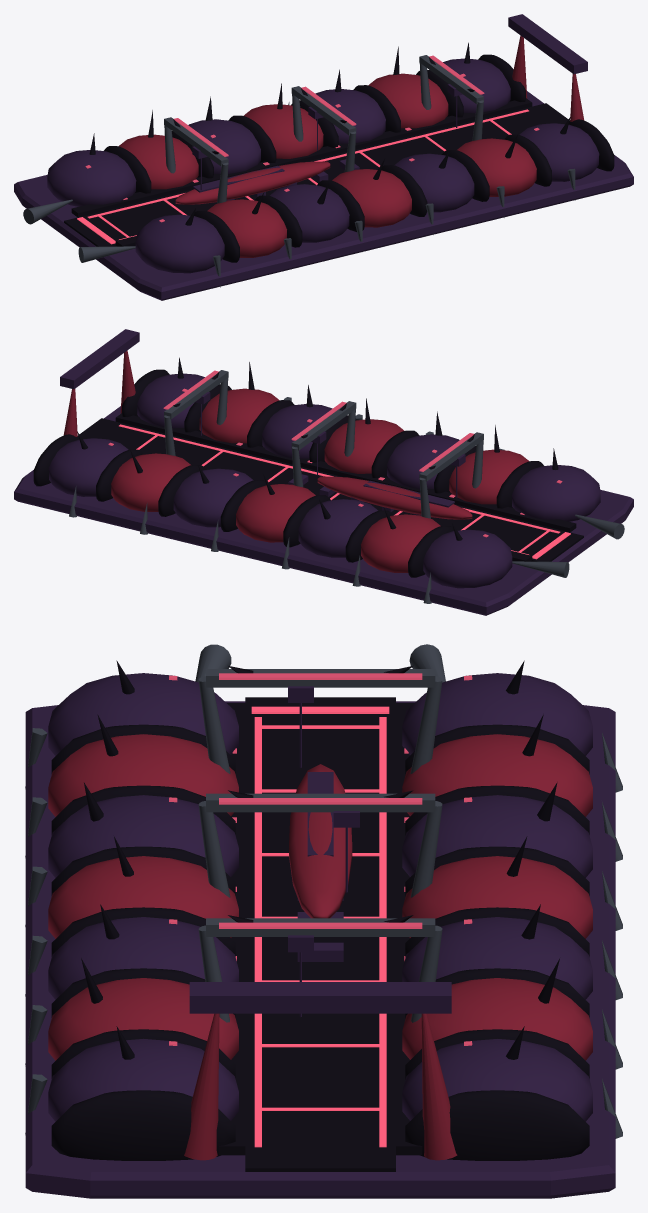
The model's file is slipway-directorate.glb.
3 views of the same model, one above another, from view 1: azimuth 30°, elevation 25°; view 2: azimuth 150°, elevation 25°; view 3: azimuth 270°, elevation 25° (orthographic). The views are drawn at different scales.
Visible parts, largest first — view 1: foundation_slab, tergite_0 (×2), slip_floor, tergite_1 (×2), tergite_5 (×2), tergite_3 (×2), tergite_2 (×2), tergite_4 (×2), tergite_6 (×2), slip_lip, hull_in_progress, gantry_beam (×3) (+12 smaller); view 2: foundation_slab, tergite_0 (×2), slip_floor, tergite_3 (×2), tergite_5 (×2), tergite_1 (×2), tergite_2 (×2), tergite_4 (×2), tergite_6 (×2), slip_lip, hull_in_progress, gantry_beam (×3) (+12 smaller); view 3: slip_floor, foundation_slab, tergite_seam_6 (×2), tergite_3 (×2), tergite_1 (×2), tergite_0 (×2), tergite_2 (×2), tergite_6 (×2), tergite_5 (×2), tergite_4 (×2), gantry_beam (×3), head_lintel (+18 smaller).
Part boxes in pixels (x1,y1,x2,y2): foundation_slab: [14, 91, 633, 300]; tergite_0 (×2): [47, 150, 224, 273]; slip_floor: [64, 103, 568, 246]; tergite_1 (×2): [119, 134, 286, 257]; tergite_5 (×2): [368, 73, 536, 196]; tergite_3 (×2): [243, 104, 411, 227]; tergite_2 (×2): [188, 119, 349, 242]; tergite_4 (×2): [315, 89, 474, 212]; tergite_6 (×2): [443, 58, 599, 181]; slip_lip: [71, 98, 532, 217]; hull_in_progress: [175, 161, 330, 204]; gantry_beam (×3): [164, 55, 483, 166]; foundation_slab: [14, 406, 633, 615]; tergite_0 (×2): [423, 465, 600, 588]; slip_floor: [79, 418, 583, 561]; tergite_3 (×2): [236, 419, 404, 542]; tergite_5 (×2): [111, 388, 279, 511]; tergite_1 (×2): [361, 449, 528, 572]; tergite_2 (×2): [298, 434, 459, 557]; tergite_4 (×2): [173, 404, 332, 527]; tergite_6 (×2): [48, 373, 204, 496]; slip_lip: [115, 413, 576, 532]; hull_in_progress: [317, 476, 472, 519]; gantry_beam (×3): [164, 370, 483, 481]; slip_floor: [245, 697, 395, 1171]; foundation_slab: [25, 701, 615, 1198]; tergite_seam_6 (×2): [51, 1090, 589, 1160]; tergite_3 (×2): [48, 856, 592, 938]; tergite_1 (×2): [48, 734, 592, 816]; tergite_0 (×2): [48, 673, 592, 755]; tergite_2 (×2): [48, 795, 592, 877]; tergite_6 (×2): [48, 1038, 592, 1121]; tergite_5 (×2): [48, 978, 592, 1060]; tergite_4 (×2): [48, 917, 592, 999]; gantry_beam (×3): [206, 669, 435, 936]; head_lintel: [189, 982, 451, 1013].
Size of the model in its own units: 340 by 61.26 by 171.
